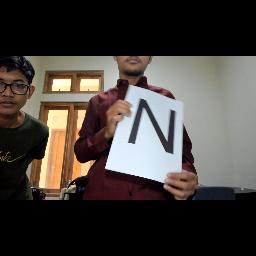n: (120, 96, 190, 164)
